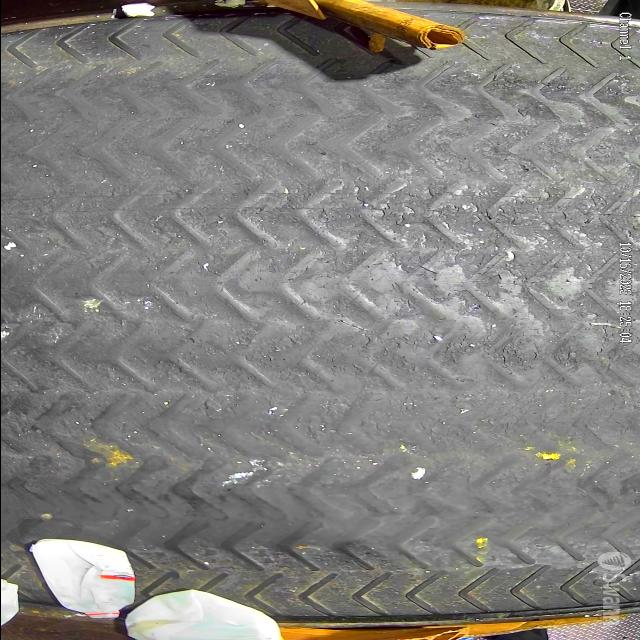milk_jug: (27, 538, 132, 619), (124, 589, 284, 640)
